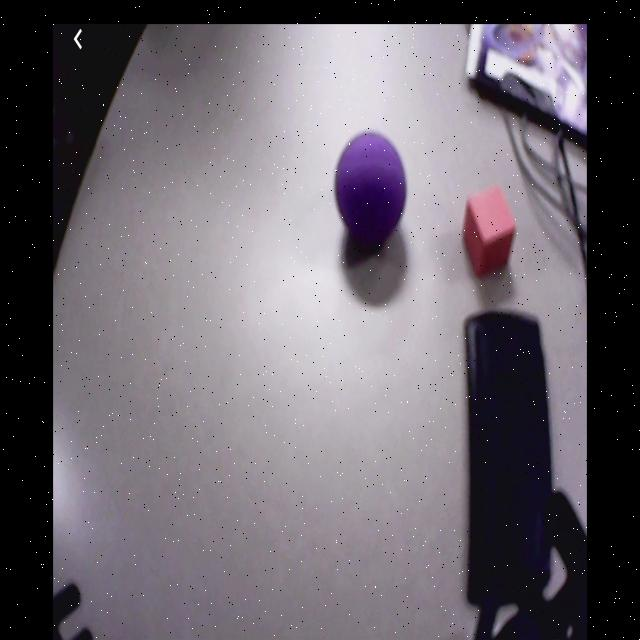ball: (336, 133, 408, 239)
